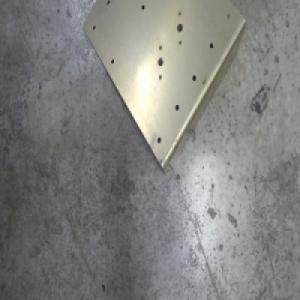MetalSheet: (82, 0, 246, 175)
